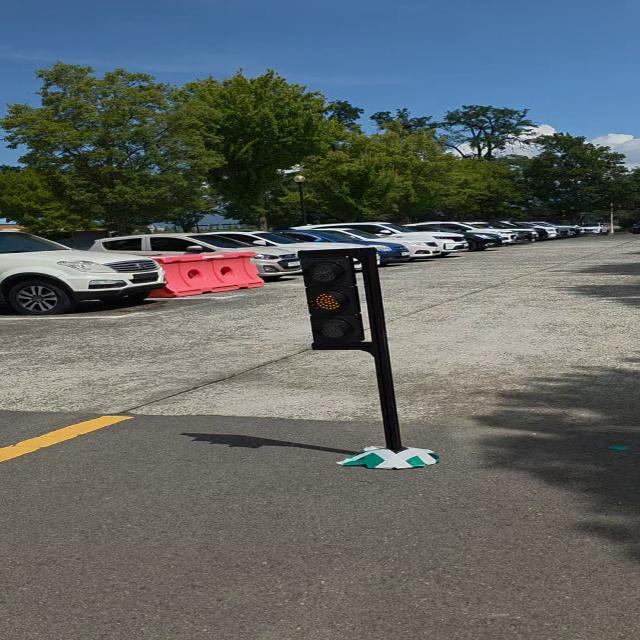yellow: (304, 252, 368, 352)
